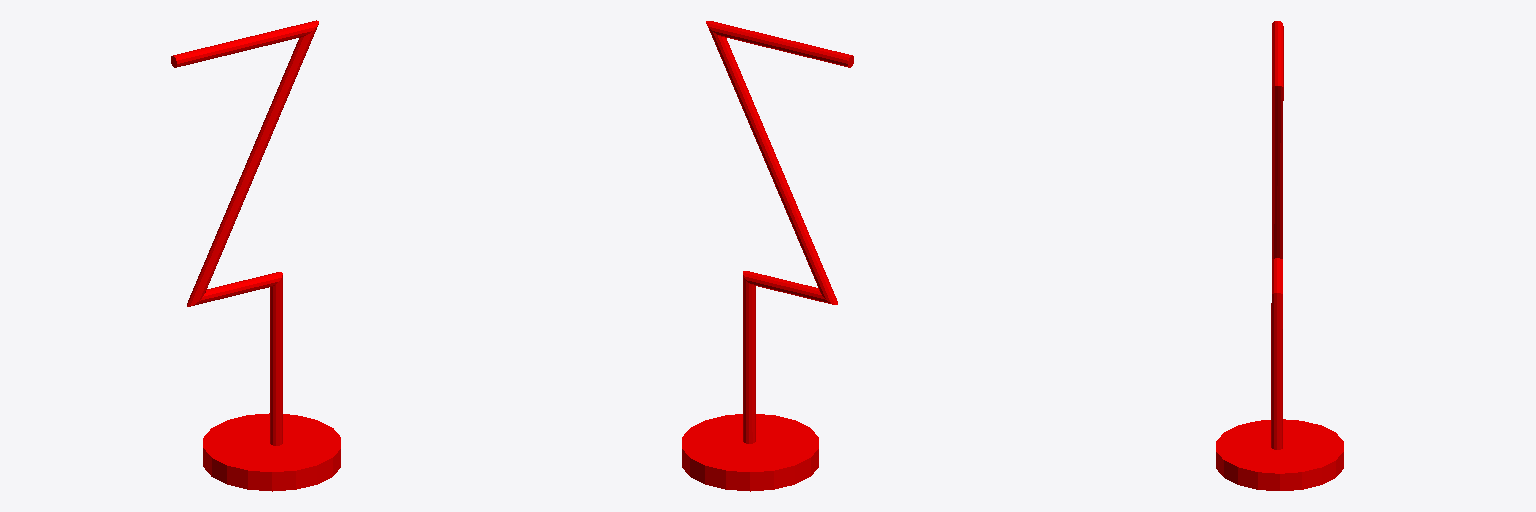
The robot description file, URDF, robot "ring":
<?xml version="0.0" ?>
<robot name="ring">
    <material name="white">
        <color rgba="1 0 0 1"/>
    </material>

    <link name="baseLink">
        <!-- from lego/lego.urdf -->
        <contact>
            <lateral_friction value="1.0"/>
            <rolling_friction value="0.0"/>
            <contact_cfm value="0.0"/>
            <contact_erp value="1.0"/>
        </contact>
        <inertial>
            <origin rpy="0 0 0" xyz="0 0 0"/>
            <mass value="0.01"/>
            <inertia ixx="1" ixy="0" ixz="0" iyy="1" iyz="0" izz="1"/>
        </inertial>
        <visual>
            <origin rpy="1.57 0 0" xyz="0 0 0"/>
            <geometry>
                <!--        radius: 10mm, depth: 14.5mm-->
                <mesh filename="meshes/z.obj" scale="1 1 1"/>
                <!--        <box size="0.002 0.002 0.002"/>-->
            </geometry>
            <material name="white"/>
        </visual>
        <collision>
            <origin rpy="1.57 0 0" xyz="0 0 0"/>
            <geometry>
                <mesh filename="meshes/z_vhacd.obj" scale="1 1 1"/>
                       <!-- <box size="2 2 2"/> -->
            </geometry>
        </collision>
    </link>
</robot>

--- Facts derived from the render (not from the file) ---
The picture shows the robot from 3 angles, left to right: view 1: azimuth 30°, elevation 25°; view 2: azimuth 150°, elevation 25°; view 3: azimuth 270°, elevation 25°; orthographic projection.
Model ring with 1 links and 0 joints (none), rooted at baseLink, posed every joint at zero.
Visible links, largest first — view 1: baseLink; view 2: baseLink; view 3: baseLink.
Link boxes in pixels (x1=…): baseLink: x1=171, y1=20, x2=340, y2=491; baseLink: x1=682, y1=21, x2=853, y2=491; baseLink: x1=1216, y1=21, x2=1343, y2=490.
Size in the robot's own frame: 0.0416 by 0.031 by 0.1067 metres.
1 mesh visuals loaded from 1 distinct referenced files (1 OBJ).